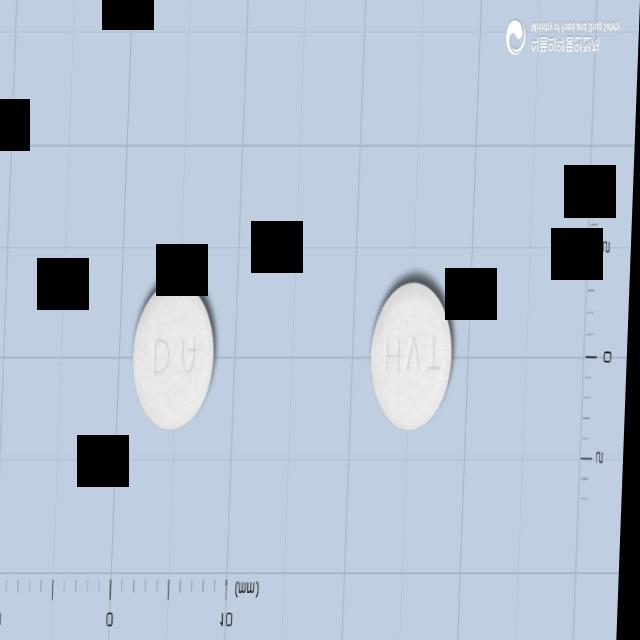Hepsevir: (132, 280, 220, 433), (370, 282, 457, 434)
